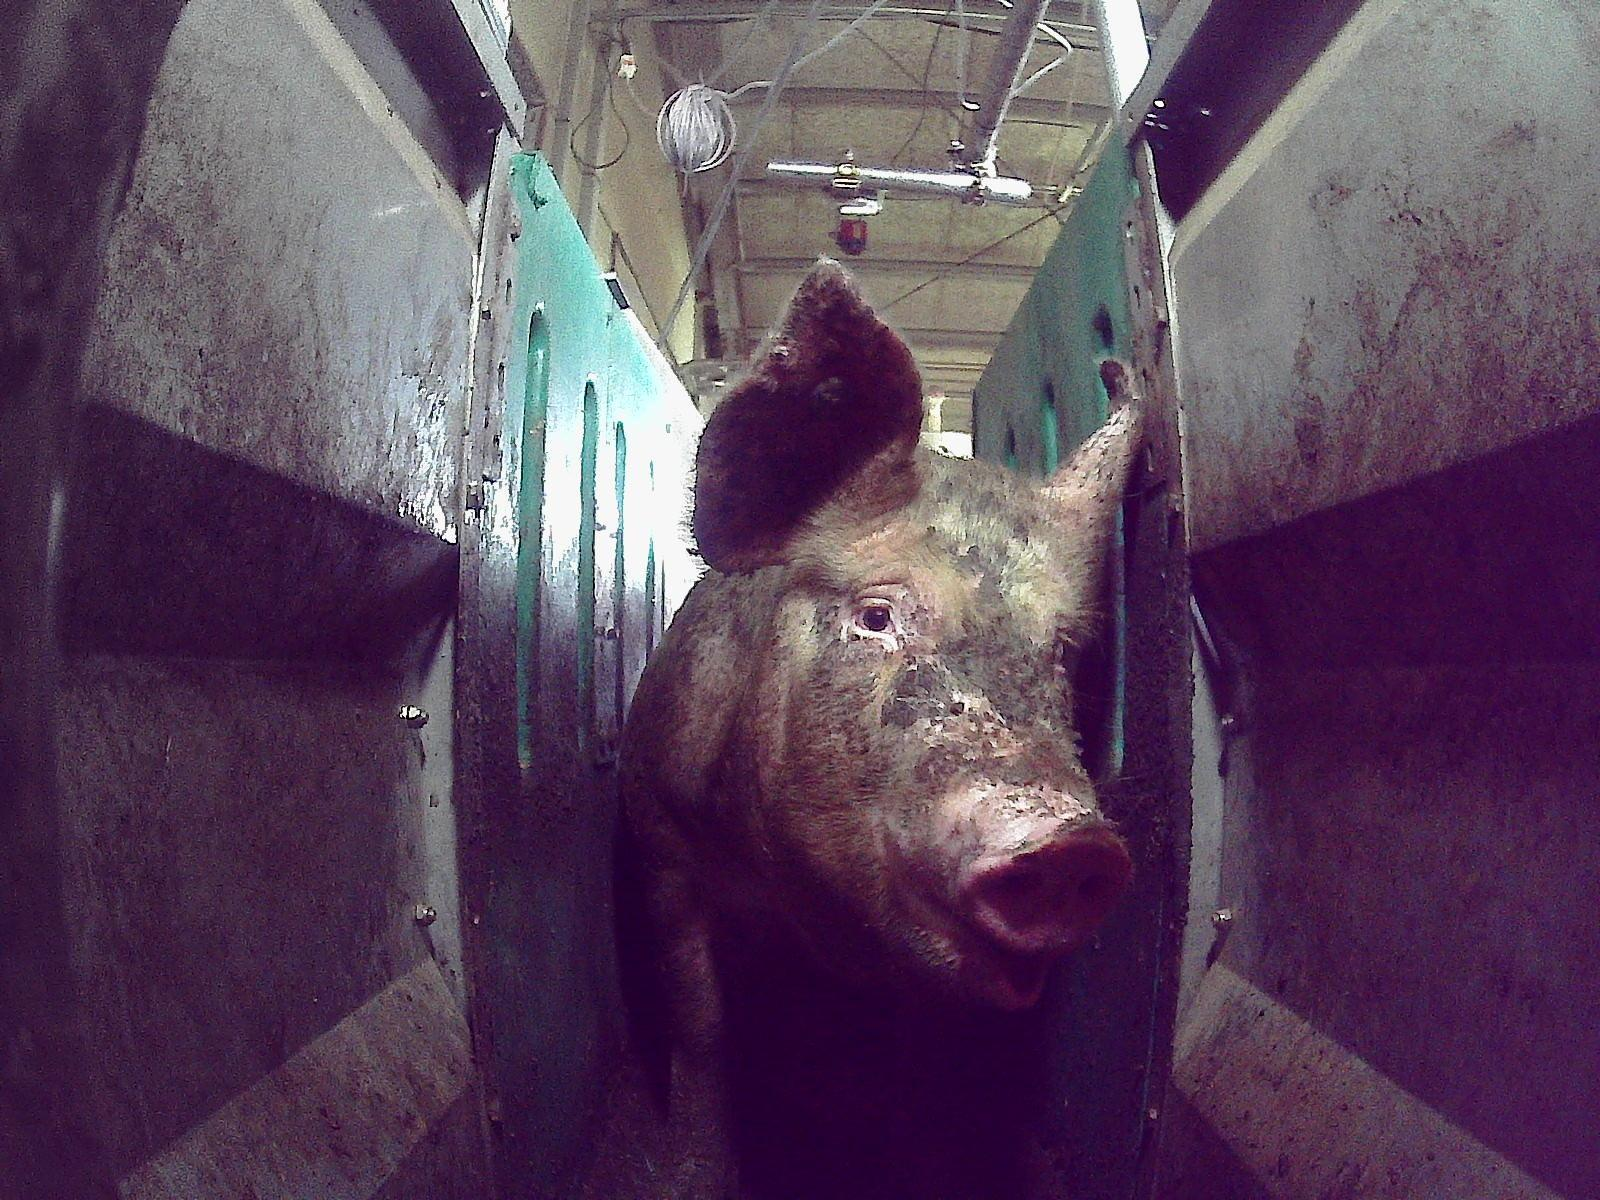Face: (686, 446, 1134, 1018)
